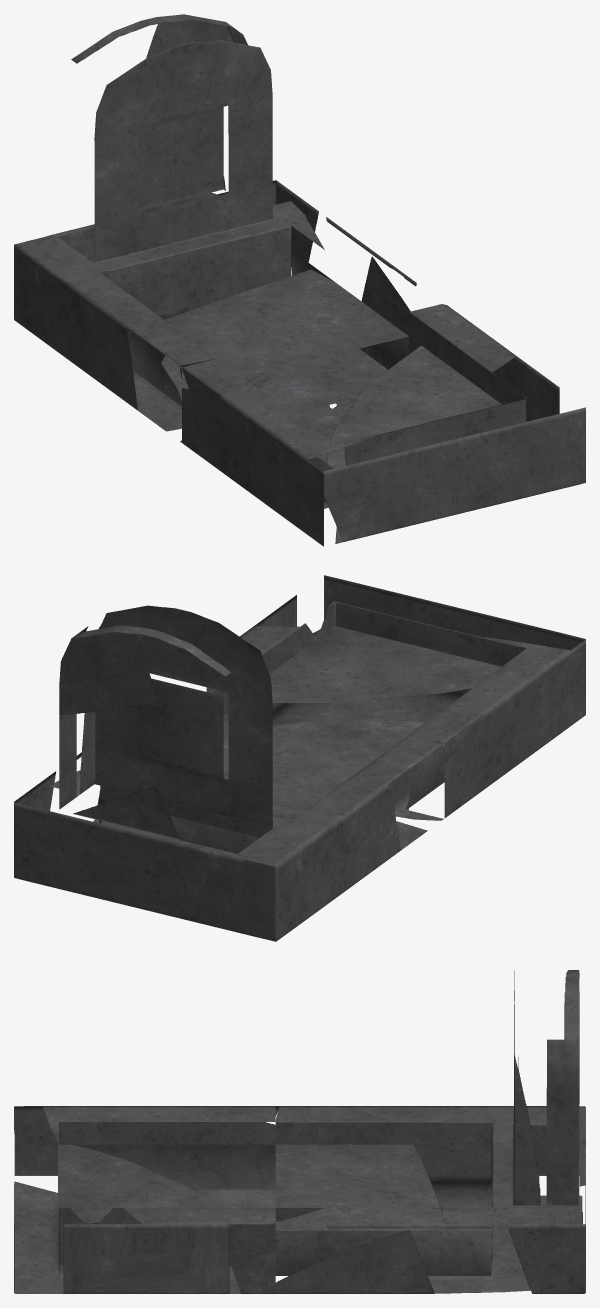
File: grave_03.fbx
3 renders of one model, top to bottom at view 1: azimuth 30°, elevation 25°; view 2: azimuth 150°, elevation 25°; view 3: azimuth 270°, elevation 25°, orthographic. The views are drawn at different scales.
Visible parts, largest first — view 1: grave.002; view 2: grave.002; view 3: grave.002.
Part boxes in pixels (bbox=[...]): grave.002: bbox=[14, 14, 585, 546]; grave.002: bbox=[14, 575, 585, 941]; grave.002: bbox=[14, 970, 585, 1293].
Bounding box in the file's own units: 169 × 167 × 345.
